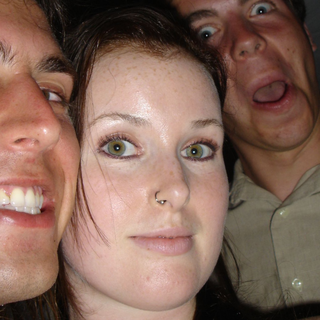eye: (92, 135, 146, 163), (34, 76, 70, 113), (174, 136, 221, 164), (192, 21, 225, 44), (243, 1, 280, 21)
